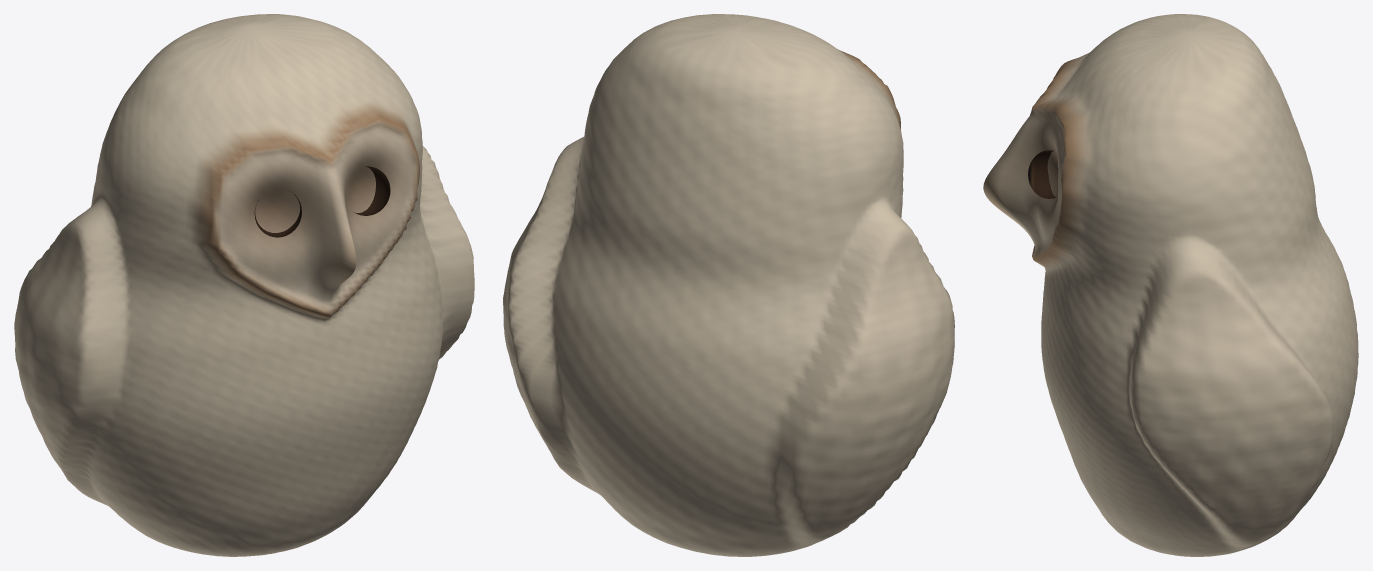
Rendered from separate-cornea-NO_RELEASE.glb.
3 views of the same model, side by side, from view 1: azimuth 30°, elevation 25°; view 2: azimuth 150°, elevation 25°; view 3: azimuth 270°, elevation 25° (orthographic). The views are drawn at different scales.
Size of the model in its own units: 1.61 by 1.88 by 1.28.
